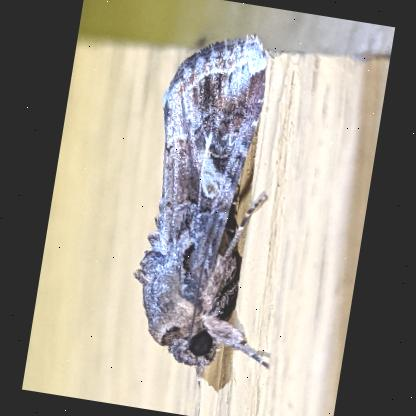Fall Armyworm Moth: (114, 18, 324, 402)
